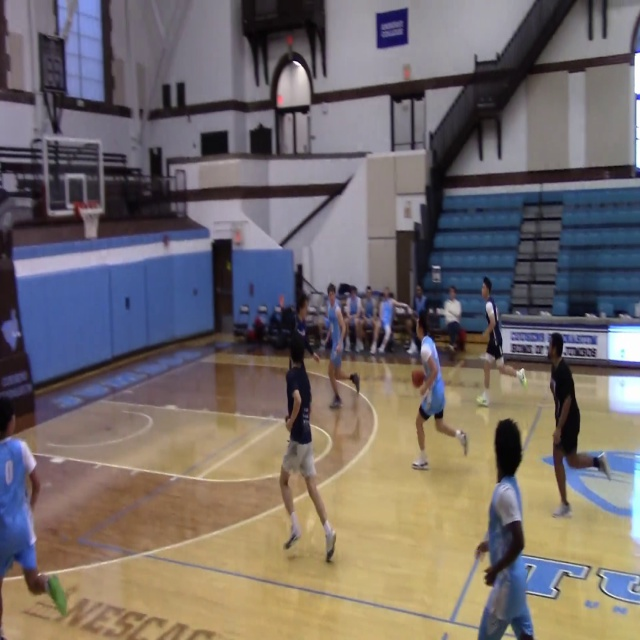Basketball: (411, 370, 425, 387)
